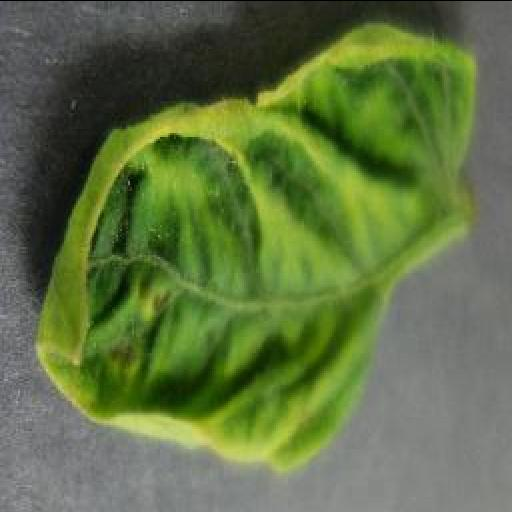disease_tomato: (33, 22, 475, 470)
